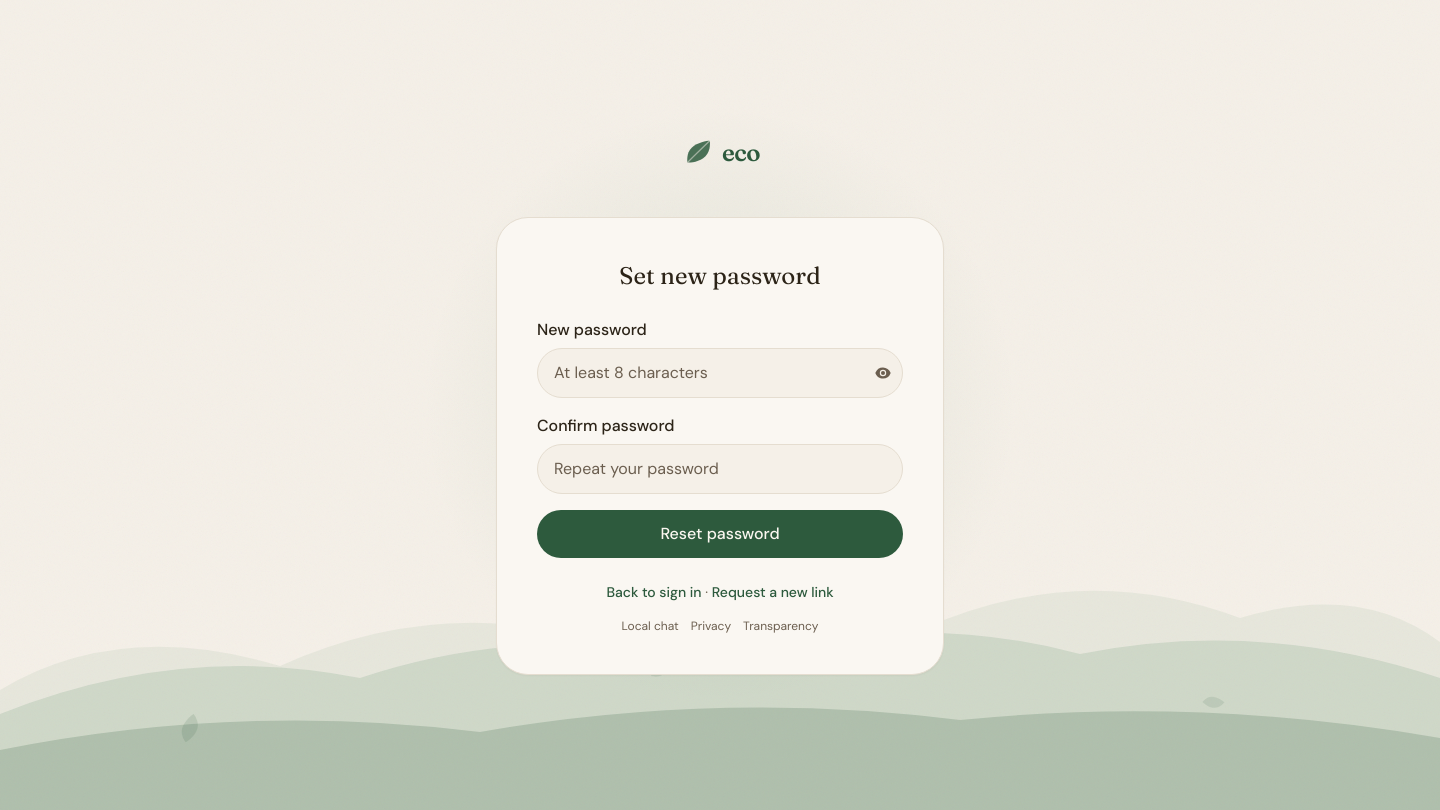
ResetPasswordPage › keeps controls recoverable after a reset failure
Type "newsecret" into the password field labelled "New password".
click(720, 372); type("newsecret")  # box [537, 348, 903, 398]
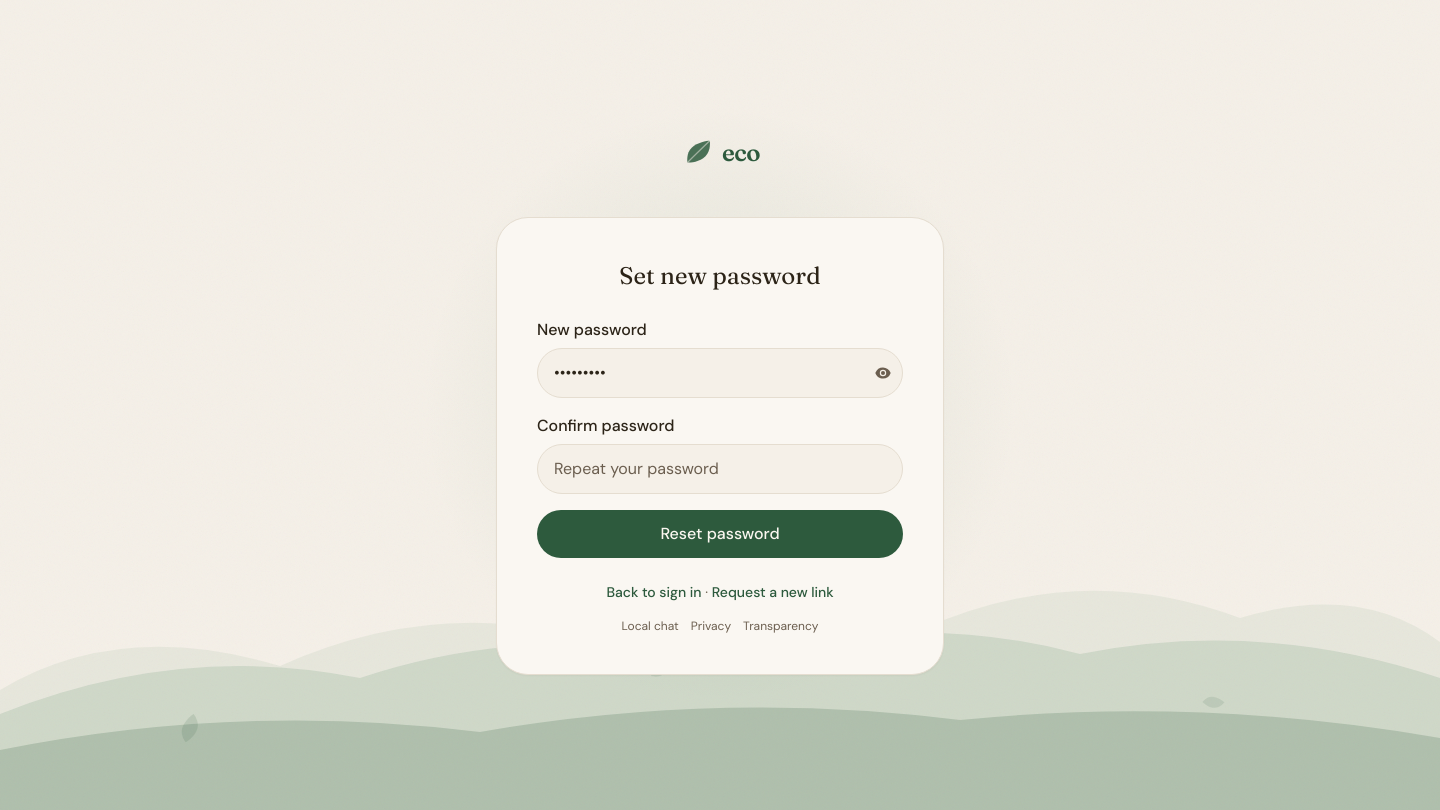
Type "newsecret" into the password field labelled "Confirm password".
click(720, 468); type("newsecret")  # box [537, 444, 903, 494]
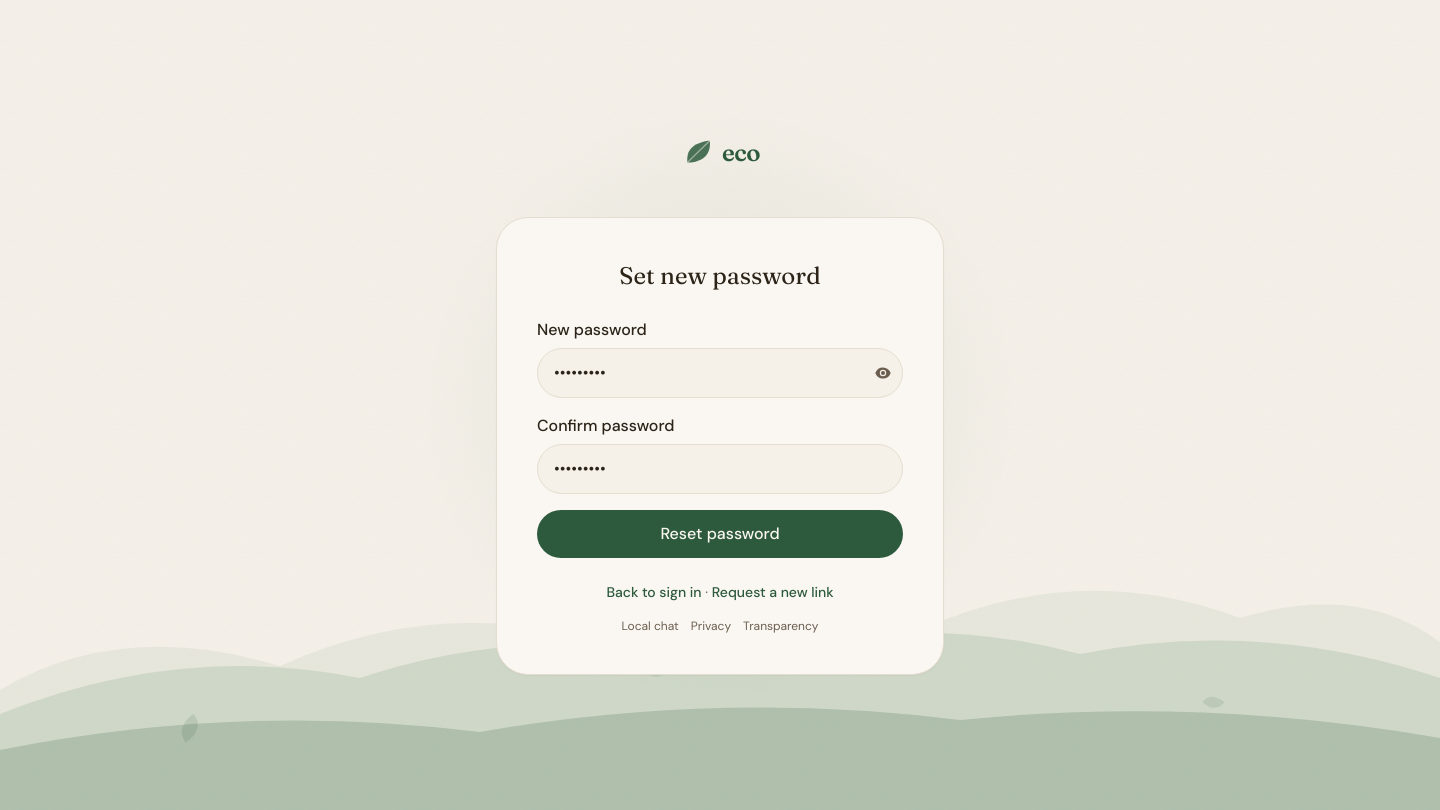
Click the button "Reset password".
click(720, 534)  # box [537, 510, 903, 558]
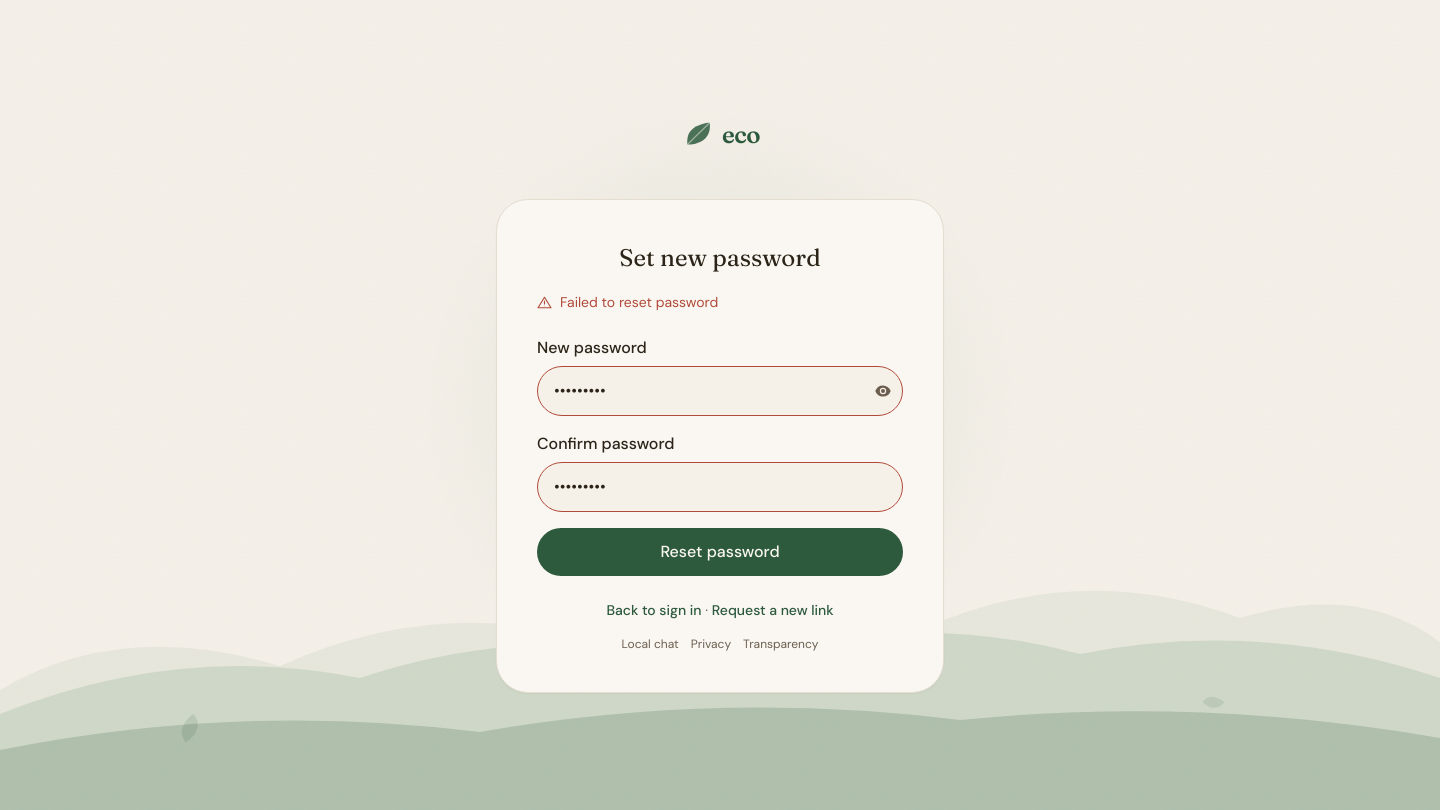
Expected: the button "Reset password" is enabled, [537, 528, 903, 576]
Now the message reads "Failed to reset password", box [560, 292, 718, 310]
